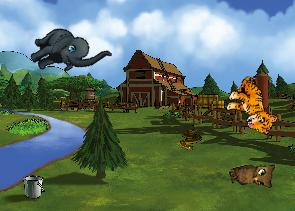elephant: (23, 9, 112, 94)
owl: (227, 159, 279, 196)
tiger: (219, 72, 288, 138)
